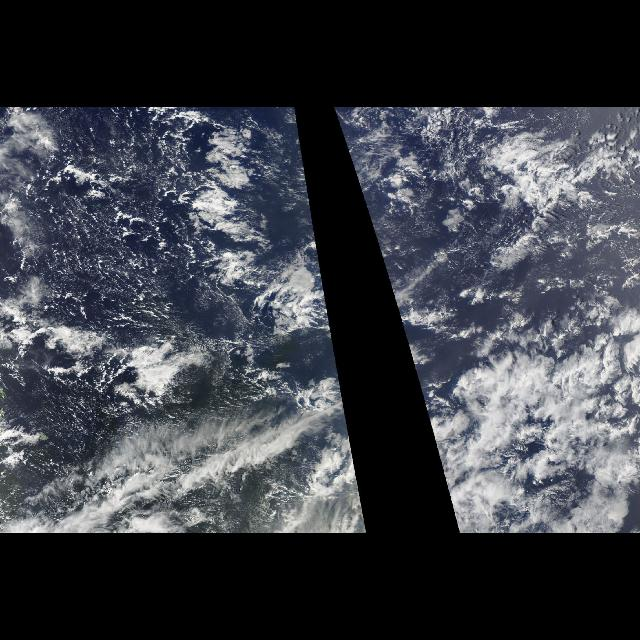Fish: (0, 316, 368, 534), (382, 124, 636, 242)
Gravel: (6, 112, 240, 336)
